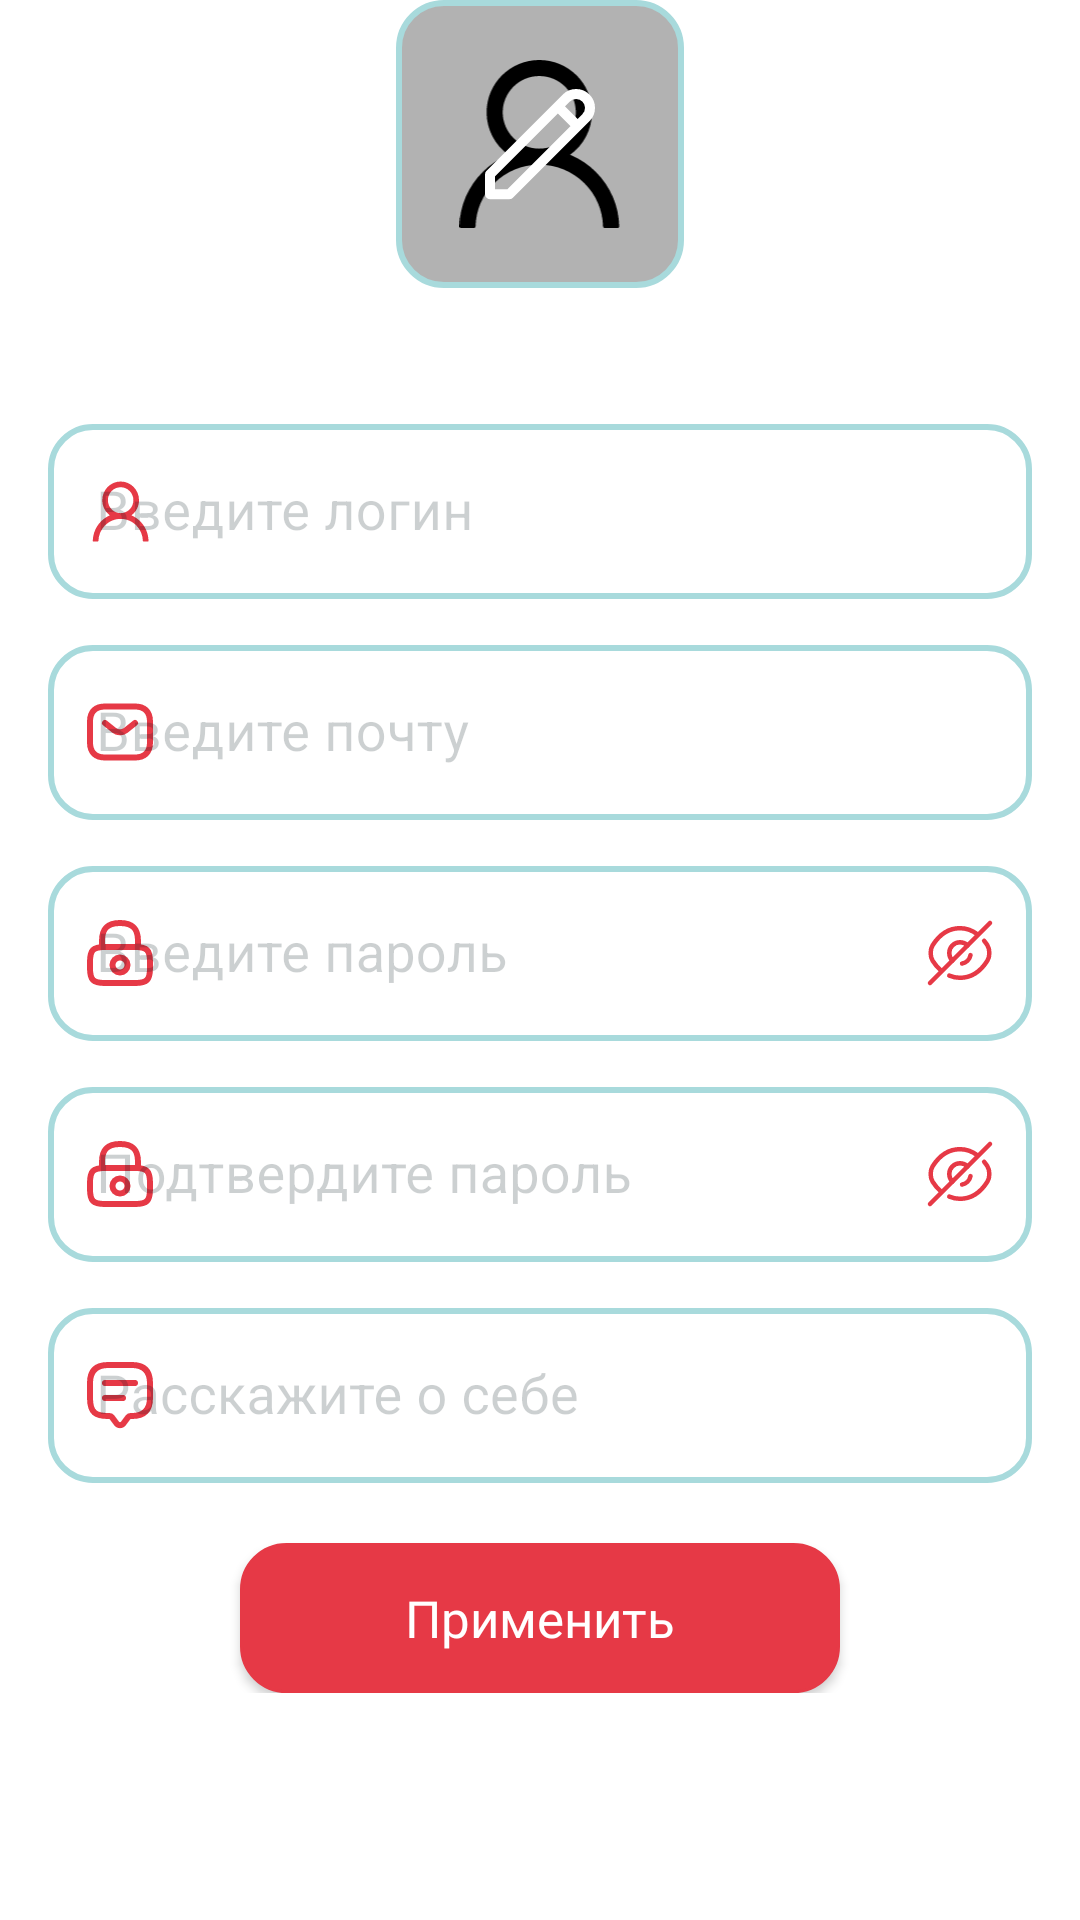

Named icons in this screenshot (1080 x 1920) and their bounding boxes, (x1, y1, x2, y2):
edit: (480, 84, 600, 204)
